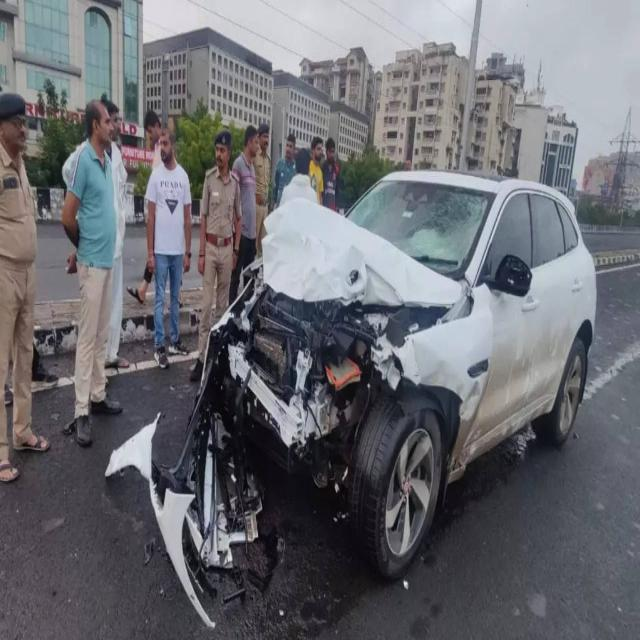accident: (106, 173, 596, 619)
